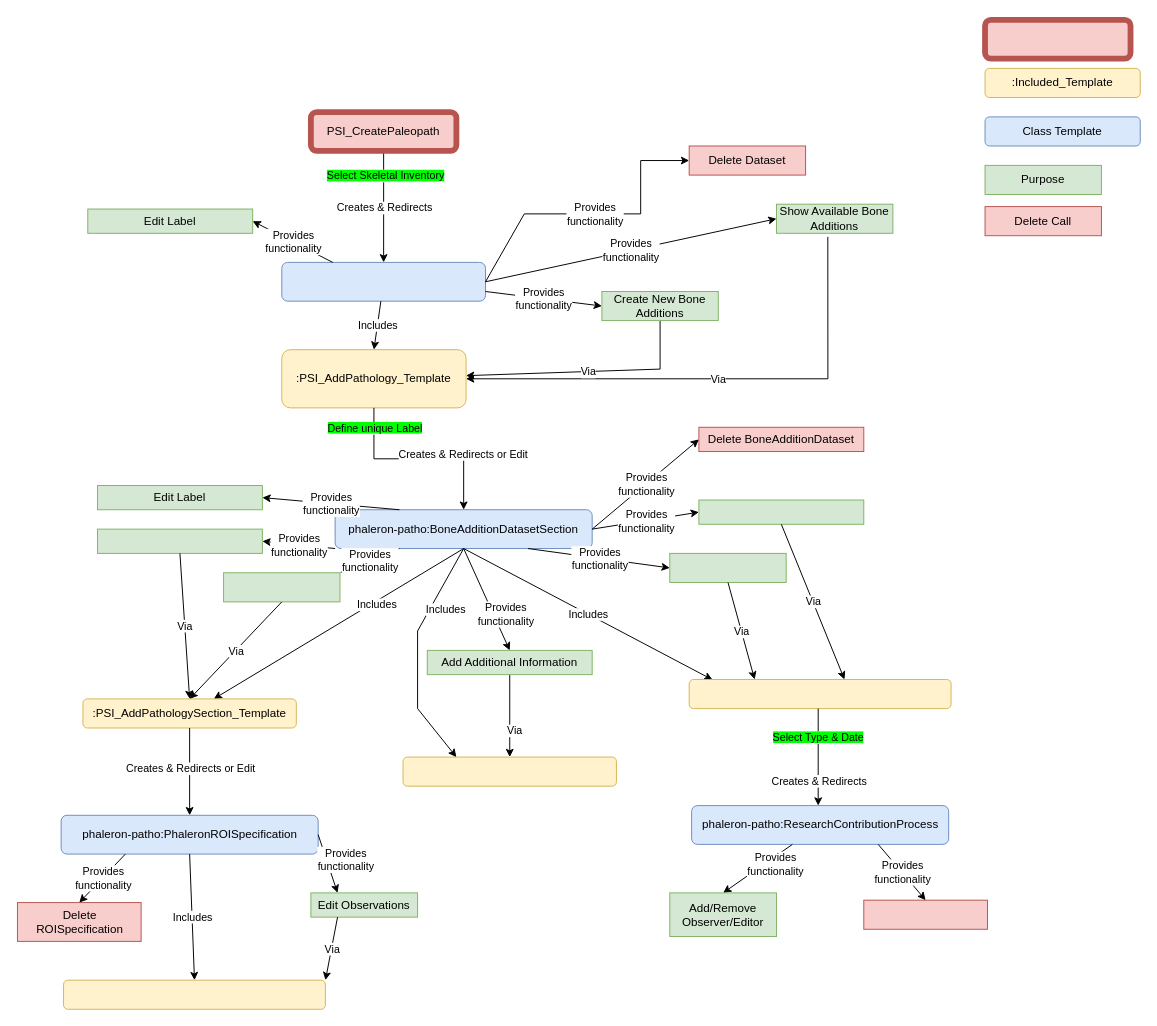
This 1157x1026 diagram has some shape labels left out. The shapes that lost their labels are listed below. From the top down, each one's centre as x and y in pixels, then its label:
At point (1057, 38): "Application Page Entry Point".
At point (383, 281): "phaleron-patho:PhaleronPaleopathologyDataset".
At point (781, 511): "Add ResearchProcess".
At point (179, 540): "Add Pathology Section".
At point (281, 587): "Show Available ROIs".
At point (727, 567): "Show Available Research Processes".
At point (819, 694): ":PSI_AddResearchProcsessPatho_Template".
At point (509, 771): ":PSI_SectionForms_Template".
At point (925, 914): "Delete RCProcess".
At point (194, 994): ":PSI_PhaleronROISpecification_Template".
